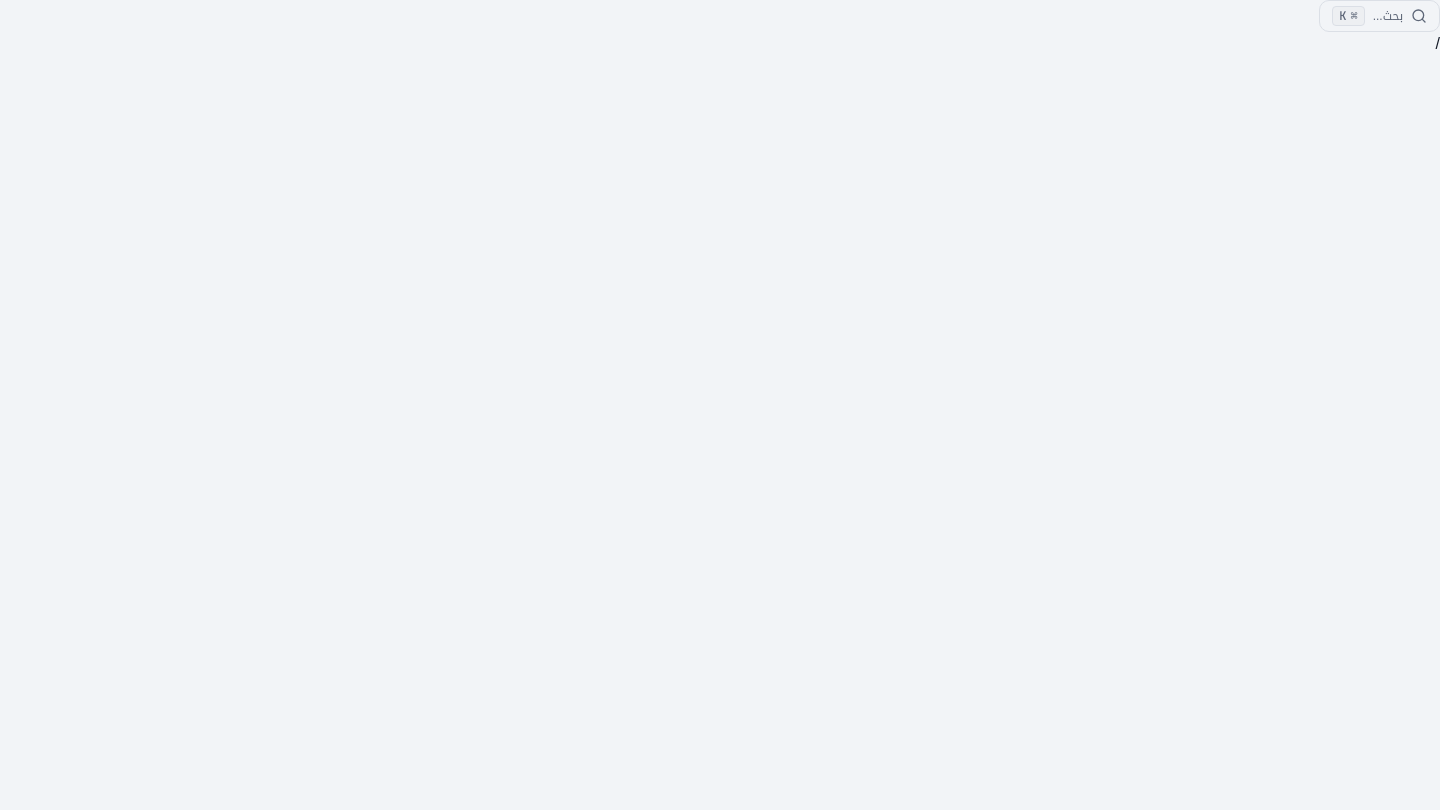
Scenario: GlobalSearch on desktop › opens from the trigger or Ctrl+K and lists active companies, portfolios and projects with their company
This screenshot has width=1440, height=810.
Step 1. Click the button "بحث... ⌘ K" → (1380, 16), box [1319,0,1439,32]
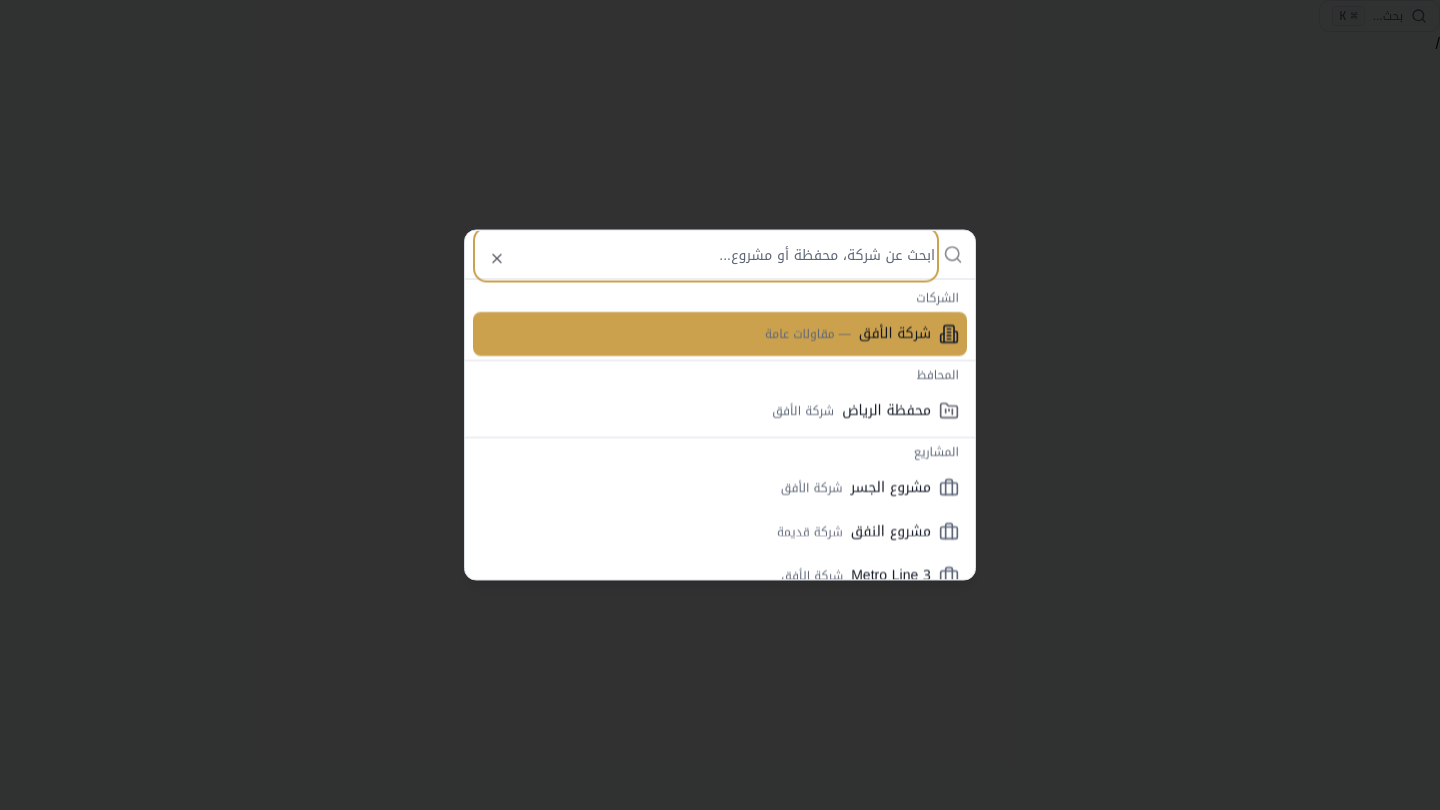
Now the text "الشركات" is shown, box [916,286,959,308]
Now the text "المحافظ" is shown, box [917,364,959,386]
Now the text "المشاريع" is shown, box [914,440,959,462]
Step 2. Press k
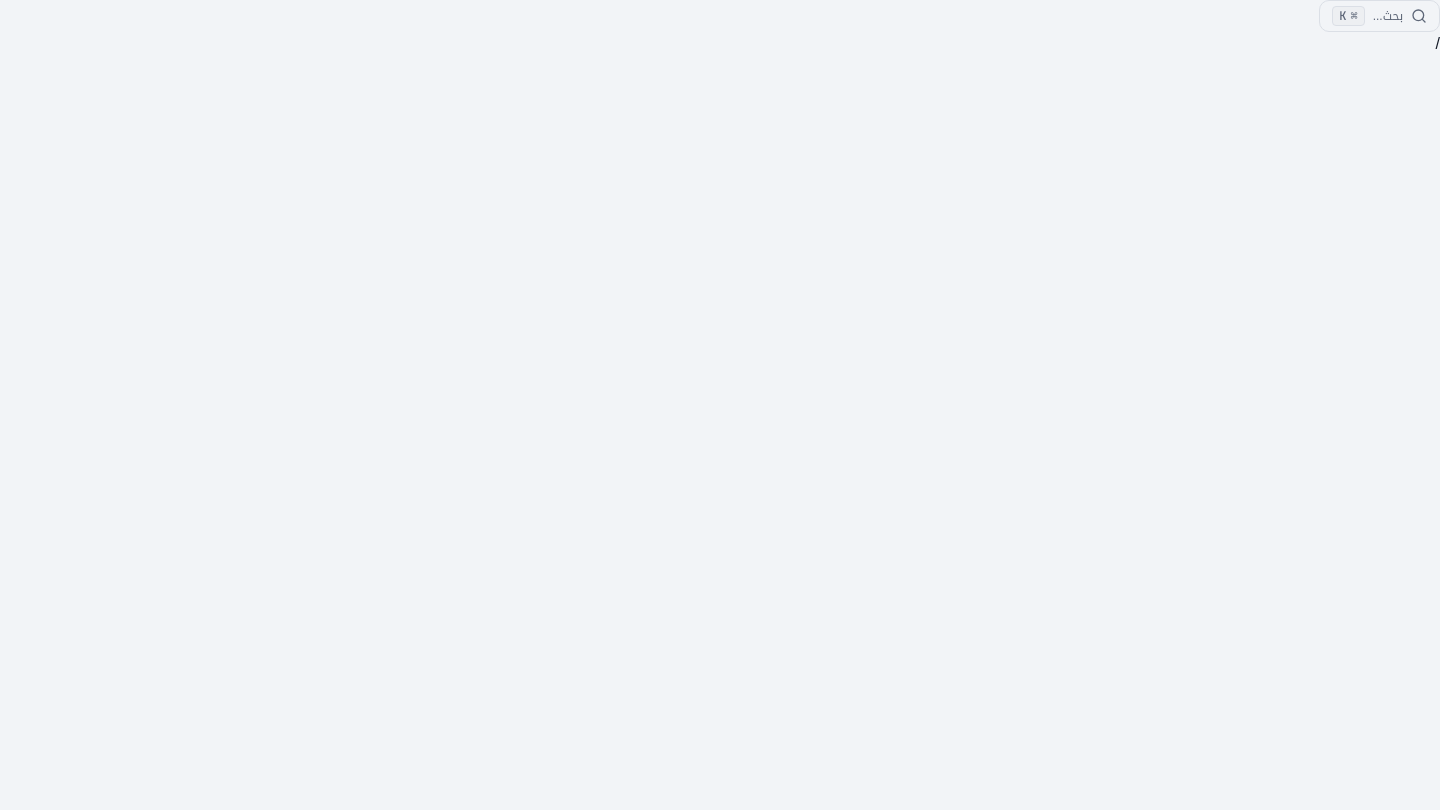
Now the dialog is gone
Step 3. Press k
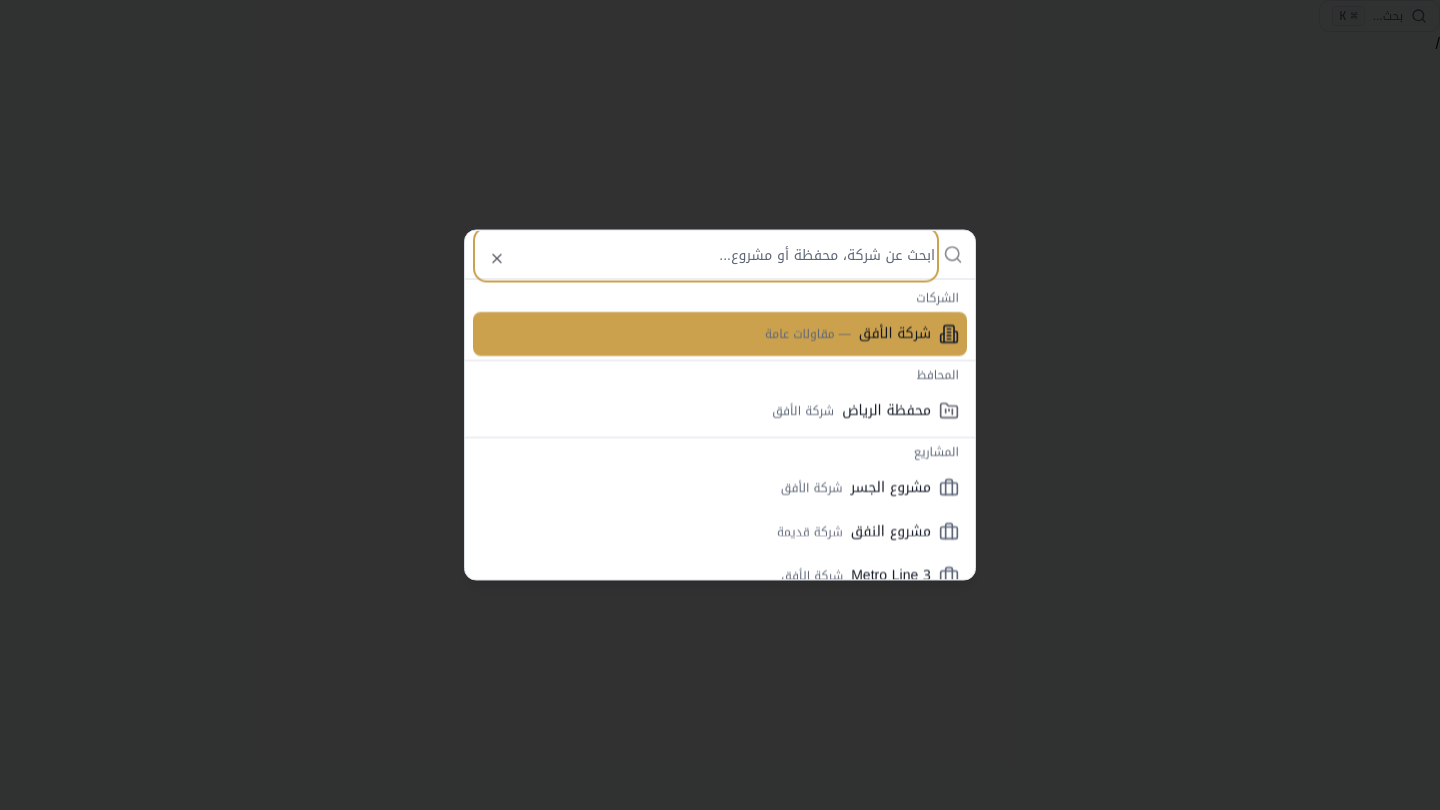
Now the dialog is shown, box [464,230,976,580]
